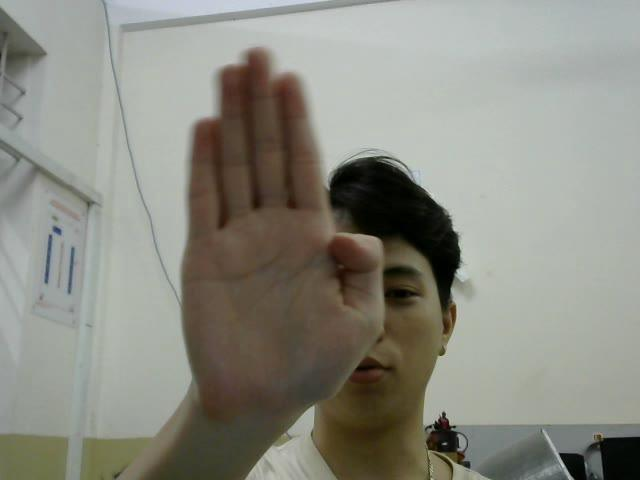B: (175, 45, 387, 415)
